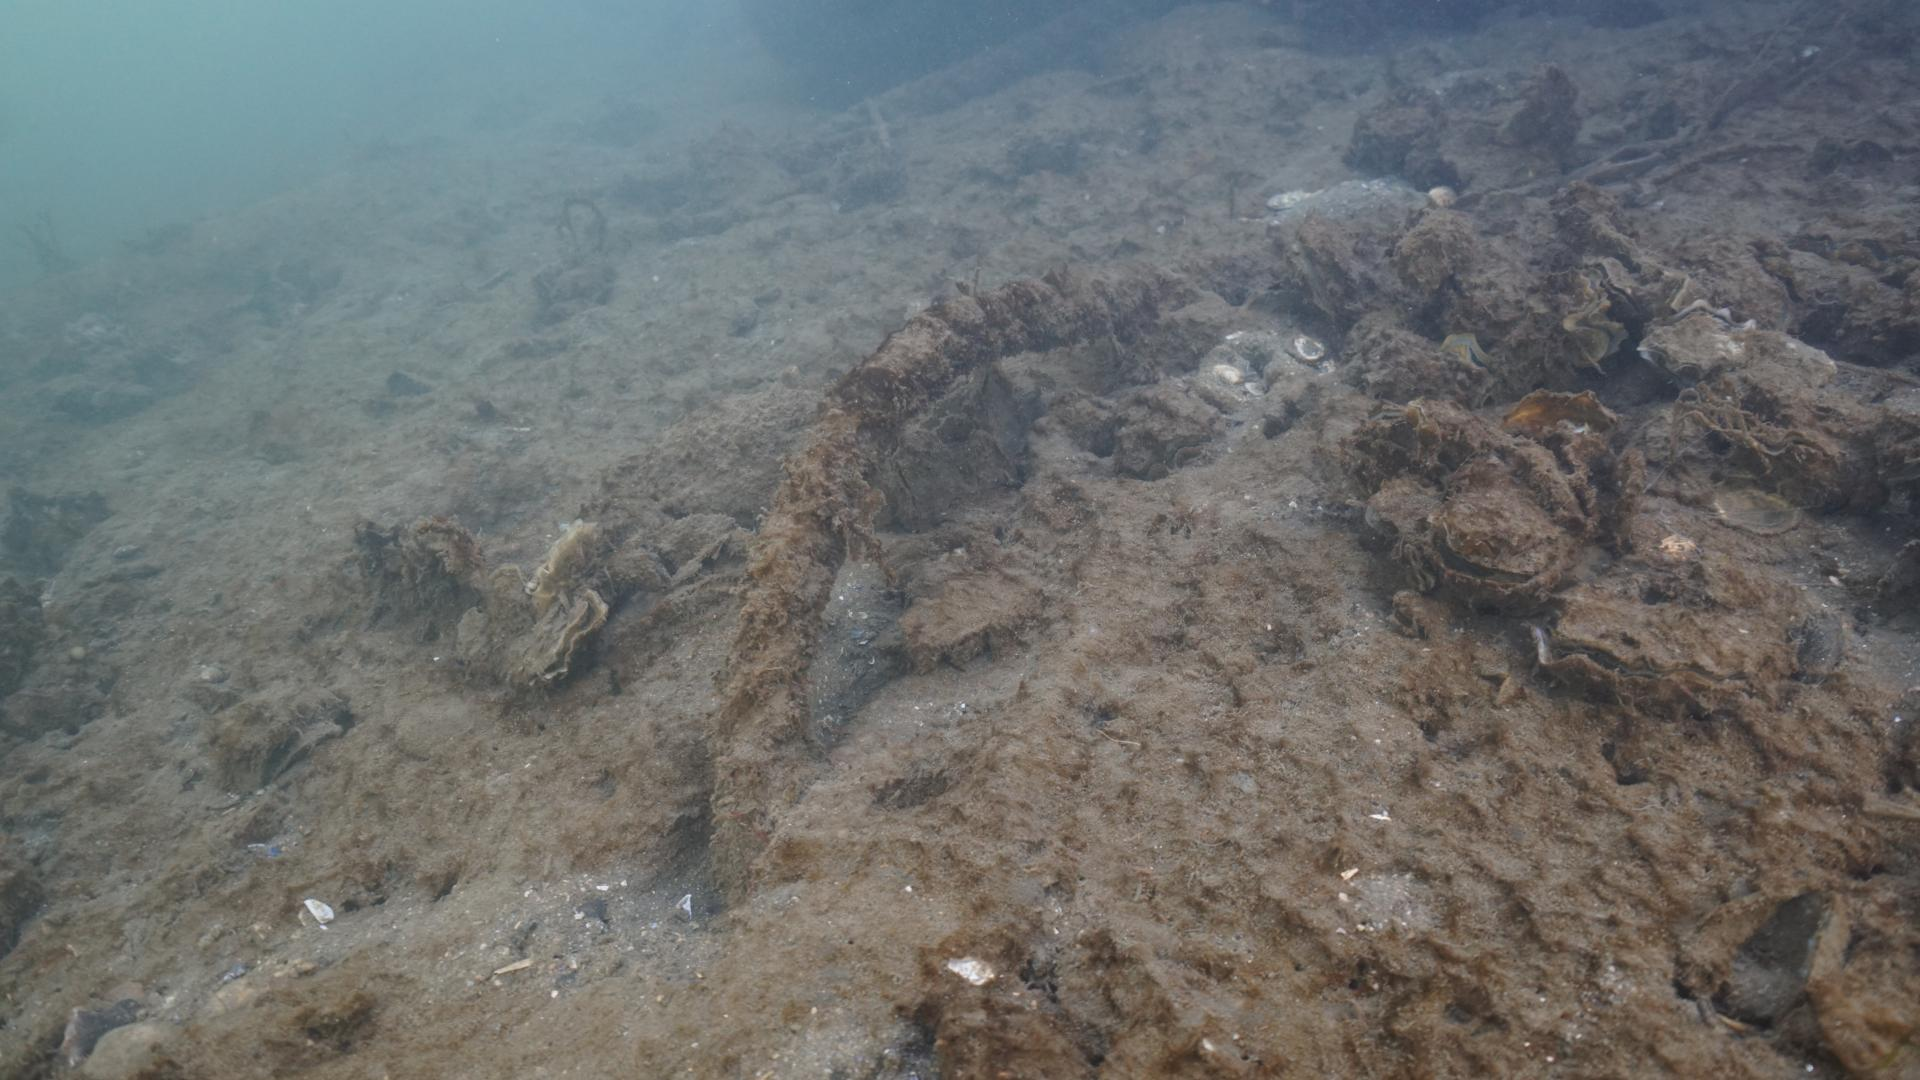rope: (712, 222, 1273, 872)
